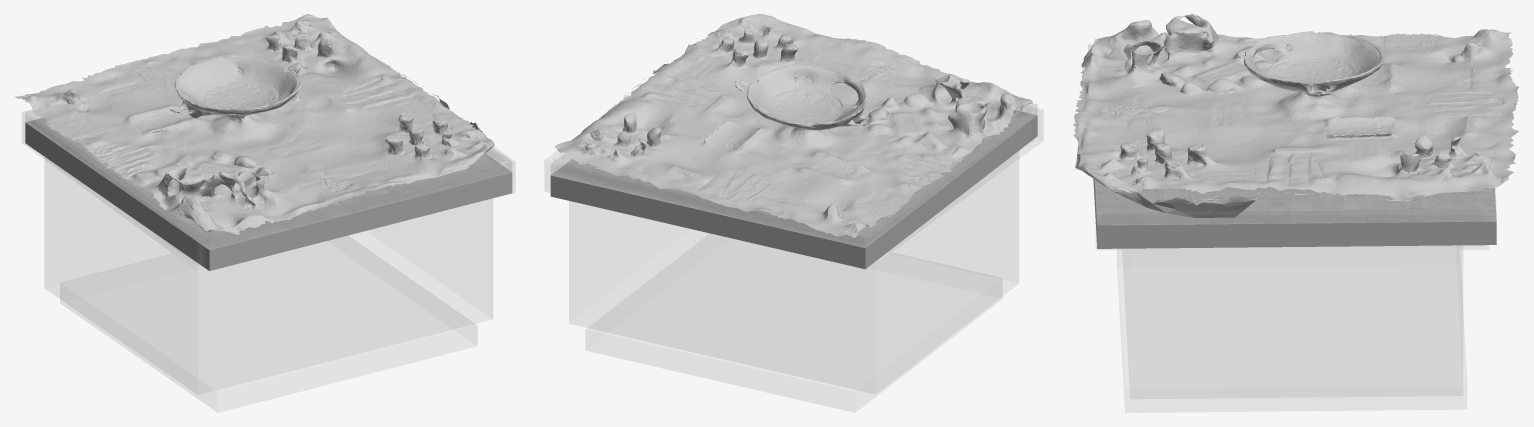
File: aripisw.fbx
The picture shows the model from 3 angles, left to right: view 1: azimuth 30°, elevation 25°; view 2: azimuth 150°, elevation 25°; view 3: azimuth 270°, elevation 25°; orthographic projection. The views are drawn at different scales.
Visible parts, largest first — view 1: Mesh_0.007, housing, basis, travertine, top, epoxy resin; view 2: Mesh_0.007, housing, basis, travertine, top, epoxy resin; view 3: Mesh_0.007, basis, housing, travertine, epoxy resin, top.
Part boxes in pixels (x1,y1,x2,y2): Mesh_0.007: [15, 14, 494, 234]; housing: [45, 158, 492, 394]; basis: [60, 236, 476, 412]; travertine: [25, 117, 512, 270]; top: [22, 110, 514, 270]; epoxy resin: [26, 110, 511, 249]; Mesh_0.007: [554, 14, 1032, 237]; housing: [569, 152, 1018, 393]; basis: [586, 234, 1001, 412]; travertine: [550, 110, 1037, 269]; top: [545, 106, 1042, 269]; epoxy resin: [551, 103, 1036, 246]; Mesh_0.007: [1073, 14, 1518, 217]; basis: [1117, 249, 1466, 412]; housing: [1122, 246, 1462, 398]; travertine: [1093, 179, 1496, 248]; epoxy resin: [1088, 45, 1495, 224]; top: [1096, 212, 1488, 249].
Bounding box in the file's own units: 80.28 × 58.16 × 86.25.
